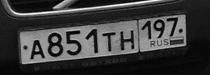license-plateSW: (19, 13, 188, 65)
